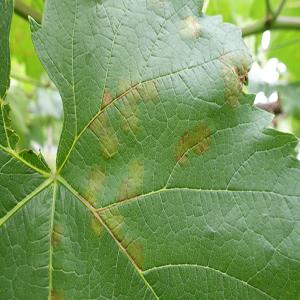Folha: (1, 0, 299, 299)
Fungo: (89, 204, 144, 268), (116, 77, 164, 134), (174, 120, 212, 170), (115, 160, 147, 208), (95, 98, 118, 164), (83, 162, 109, 208), (181, 14, 201, 39), (233, 62, 248, 94), (52, 222, 64, 247)
